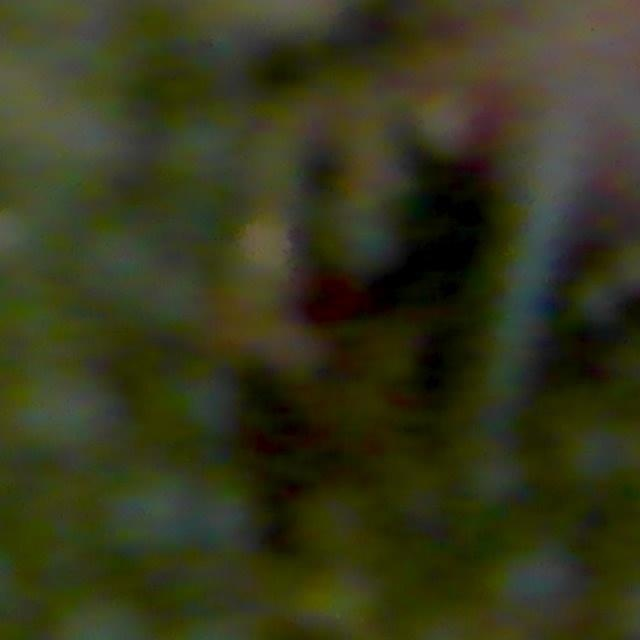SeaGrape: (11, 364, 116, 457), (108, 466, 199, 555), (487, 538, 579, 623), (328, 206, 404, 278), (170, 367, 243, 439), (414, 88, 481, 158)
